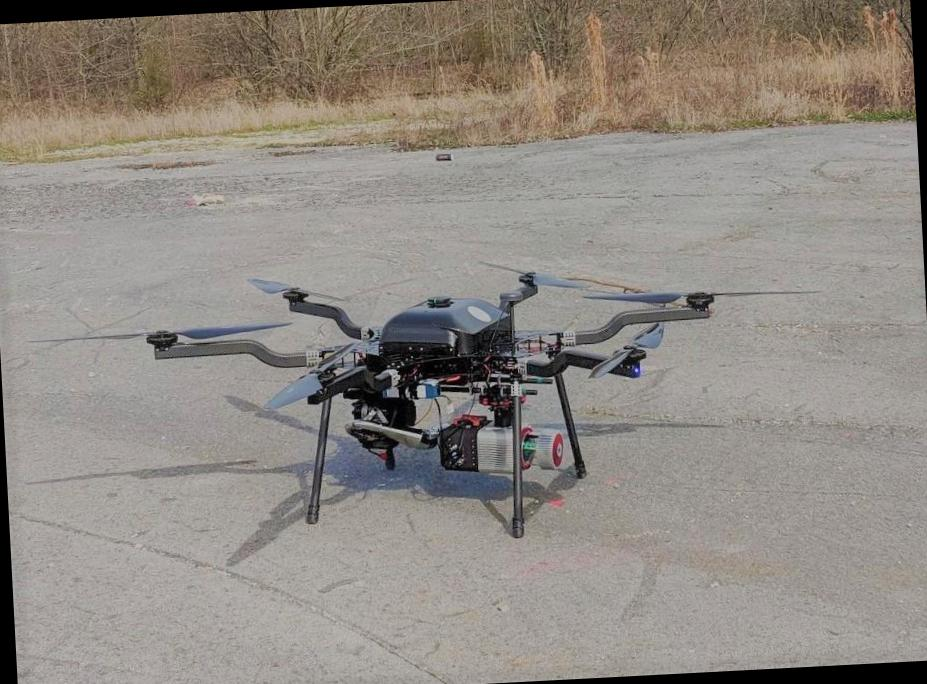drone: (10, 224, 792, 522)
